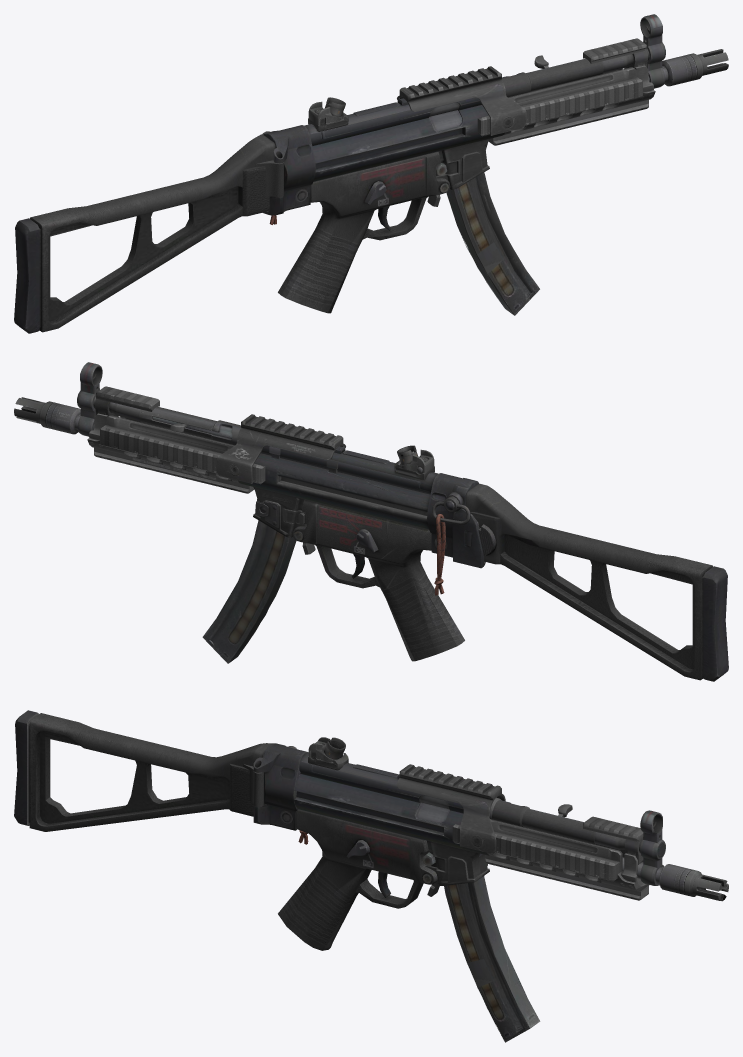
File: smg.gltf
The picture shows the model from 3 angles, top to bottom: view 1: azimuth 30°, elevation 25°; view 2: azimuth 150°, elevation 25°; view 3: azimuth 330°, elevation 25°; orthographic projection.
Parts seen in each view (by area): view 1: SMG_MP5_Barrel_001_L0; view 2: SMG_MP5_Barrel_001_L0; view 3: SMG_MP5_Barrel_001_L0.
Part boxes in pixels (<box>): SMG_MP5_Barrel_001_L0: <box>14,14,728,333</box>; SMG_MP5_Barrel_001_L0: <box>14,362,728,681</box>; SMG_MP5_Barrel_001_L0: <box>14,710,728,1042</box>.
Size of the model in its own units: 73.59 by 26.12 by 6.
Materials: 4 (4 with a texture image).
